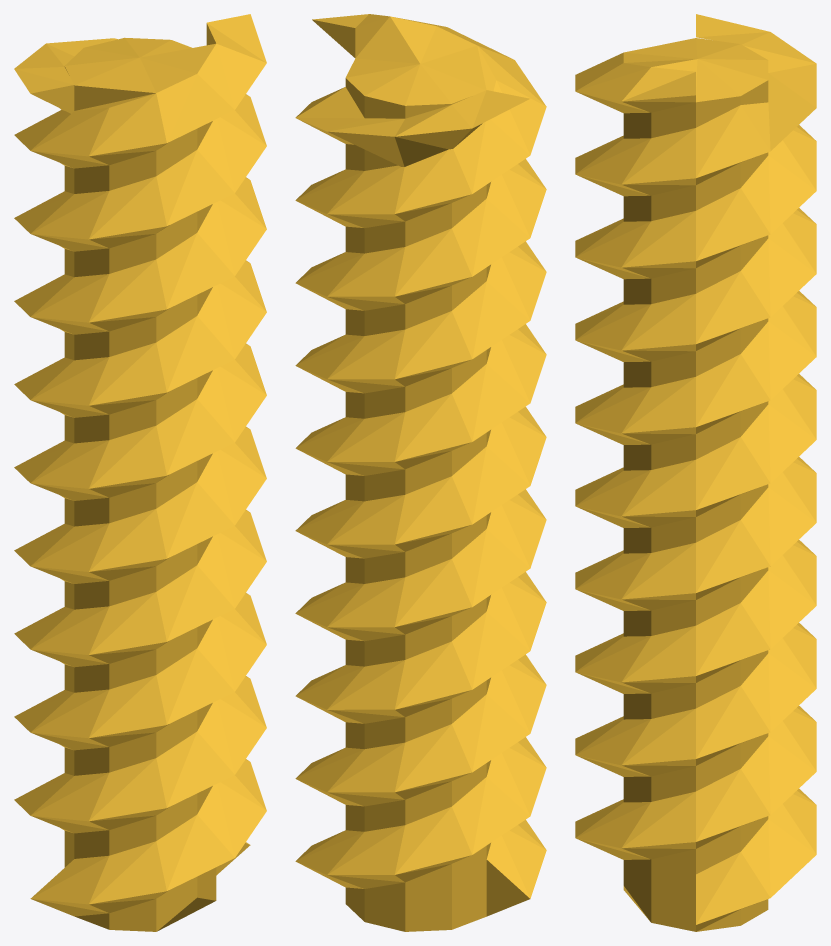
The model's file is traquea.glb.
3 renders of one model, left to right at view 1: azimuth 30°, elevation 25°; view 2: azimuth 150°, elevation 25°; view 3: azimuth 270°, elevation 25°, orthographic.
Parts seen in each view (by area): view 1: Node; view 2: Node; view 3: Node.
Part boxes in pixels (box(x1,y1,x2,y2)): Node: box(14, 14, 266, 931); Node: box(295, 14, 546, 931); Node: box(575, 14, 816, 931).
Bounding box in the file's own units: 0.9583 × 3.58 × 0.9114.
